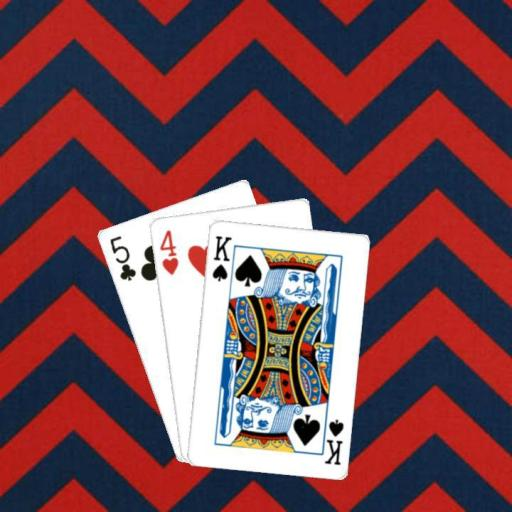4H: (156, 227, 180, 276)
5C: (106, 233, 137, 283)
KS: (317, 410, 346, 466), (209, 232, 233, 283)
